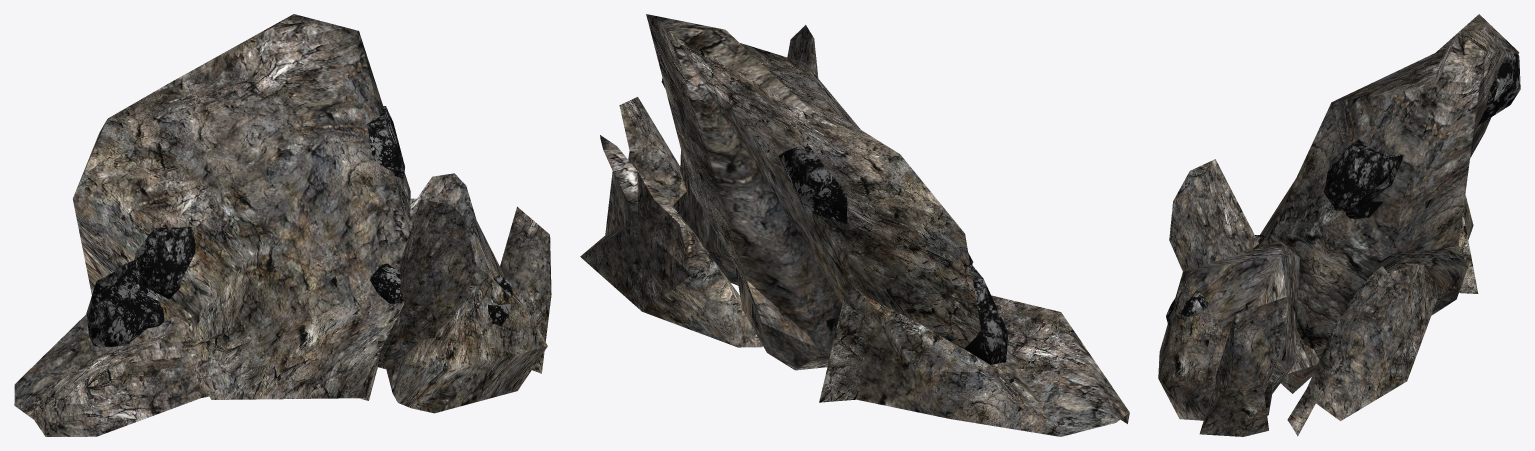
The model's file is pir_m_prp_cav_rockGroupSilver_b.fbx.
The picture shows the model from 3 angles, left to right: view 1: azimuth 30°, elevation 25°; view 2: azimuth 150°, elevation 25°; view 3: azimuth 270°, elevation 25°; orthographic projection. The views are drawn at different scales.
Visible parts, largest first — view 1: bigrock2, small_rock4, bigrock, small_rock3, rock_5, small_rock5, rock_3, rock_6, rock1, rock_14, rock_2; view 2: bigrock2, small_rock4, rock1, small_rock5, rock_10, rock_5, bigrock, small_rock3; view 3: bigrock2, bigrock, rock1, small_rock5, small_rock3, rock_6, rock_10, small_rock4, rock_2.
Boxes of the visible parts, x1=… form: bigrock2: x1=73, y1=14, x2=410, y2=400; small_rock4: x1=14, y1=314, x2=238, y2=436; bigrock: x1=383, y1=208, x2=547, y2=413; small_rock3: x1=377, y1=199, x2=476, y2=369; rock_5: x1=86, y1=260, x2=164, y2=347; small_rock5: x1=500, y1=206, x2=551, y2=373; rock_3: x1=134, y1=227, x2=195, y2=299; rock_6: x1=367, y1=106, x2=404, y2=178; rock1: x1=410, y1=173, x2=476, y2=230; rock_14: x1=370, y1=263, x2=403, y2=303; rock_2: x1=488, y1=275, x2=512, y2=326; bigrock2: x1=646, y1=14, x2=981, y2=370; small_rock4: x1=819, y1=286, x2=1129, y2=436; rock1: x1=580, y1=135, x2=762, y2=347; small_rock5: x1=619, y1=97, x2=686, y2=205; rock_10: x1=778, y1=143, x2=847, y2=223; rock_5: x1=964, y1=263, x2=1008, y2=364; bigrock: x1=673, y1=150, x2=738, y2=285; small_rock3: x1=787, y1=25, x2=818, y2=77; bigrock2: x1=1252, y1=14, x2=1519, y2=393; bigrock: x1=1158, y1=241, x2=1300, y2=420; rock1: x1=1287, y1=263, x2=1440, y2=436; small_rock5: x1=1199, y1=296, x2=1287, y2=436; small_rock3: x1=1169, y1=159, x2=1319, y2=373; rock_6: x1=1323, y1=139, x2=1403, y2=218; rock_10: x1=1477, y1=48, x2=1520, y2=125; small_rock4: x1=1458, y1=194, x2=1478, y2=293; rock_2: x1=1166, y1=290, x2=1208, y2=327.
Bounding box in the file's own units: 9391 × 6061 × 5669.
2 materials, 2 textured.
